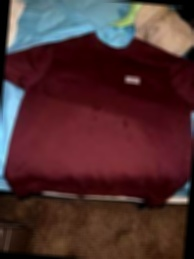oil: (89, 98, 104, 122), (119, 116, 129, 132)
